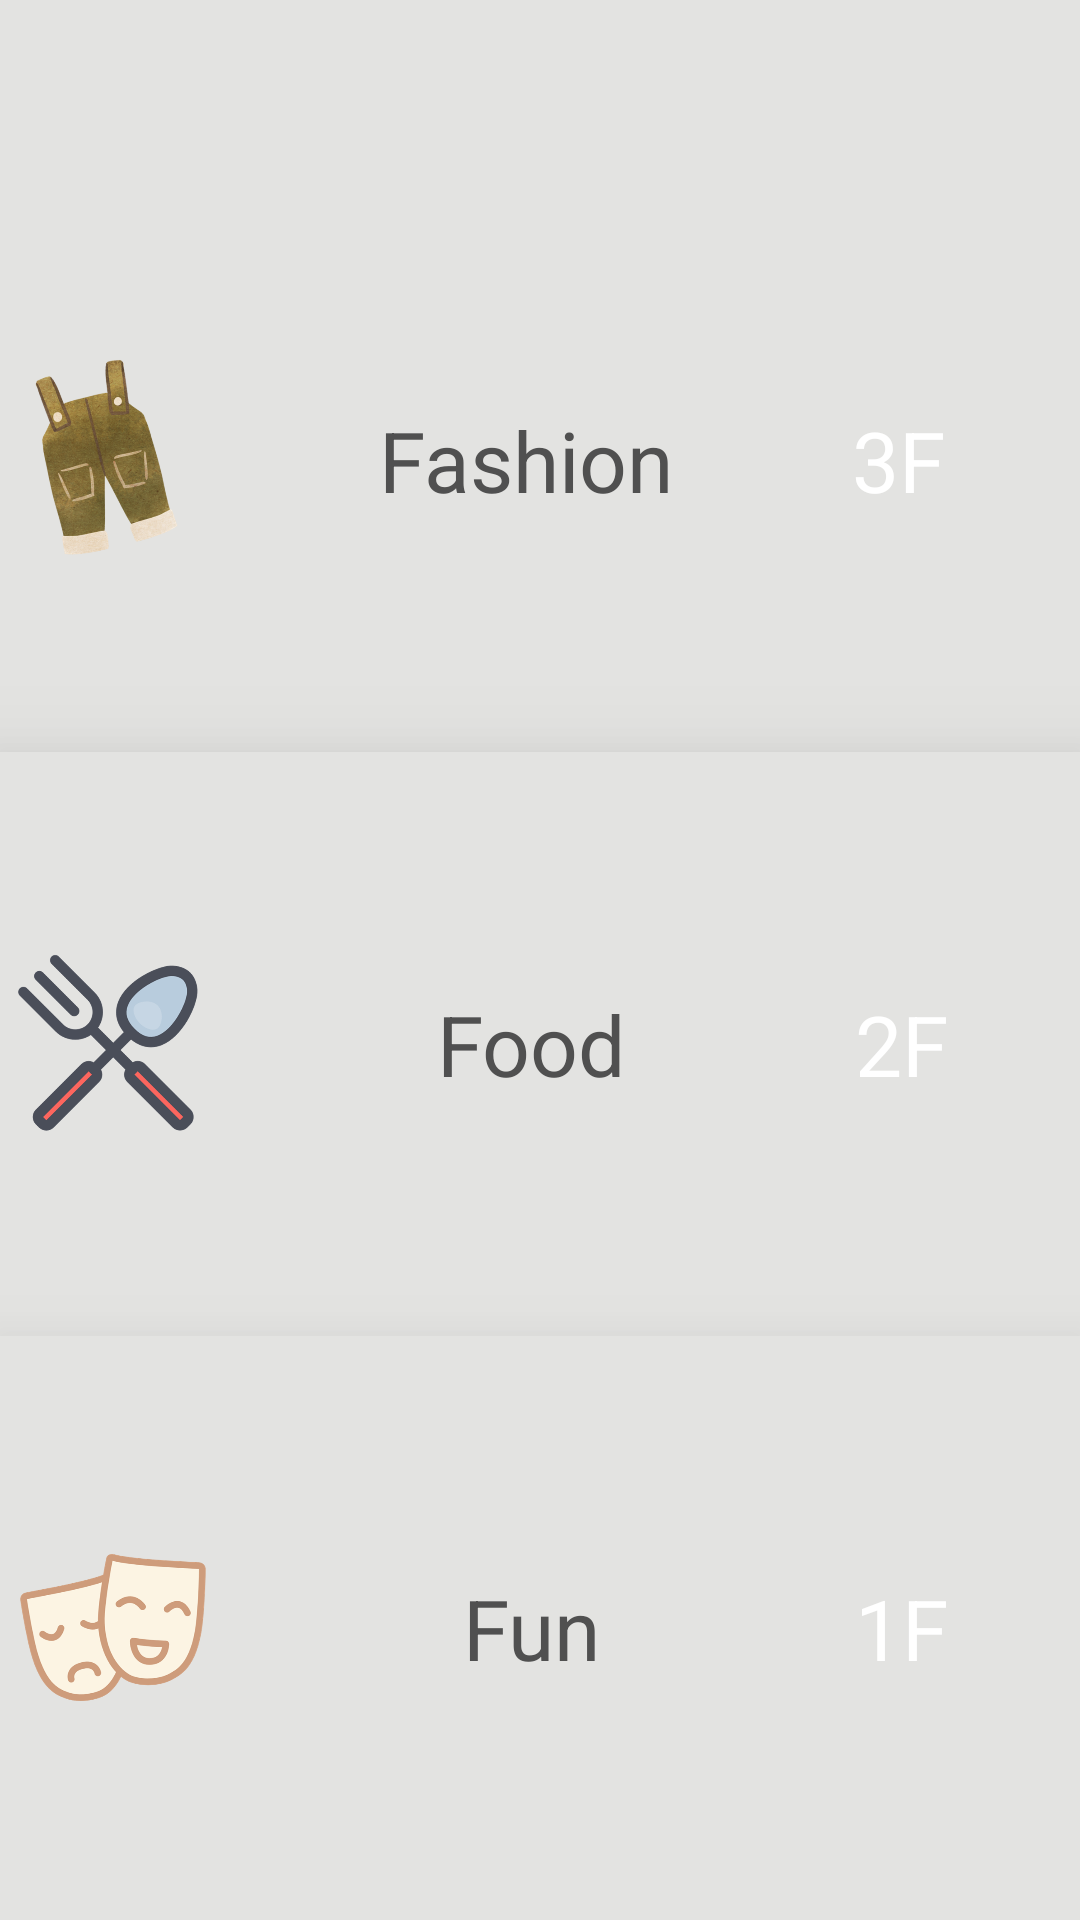

Icon click points for this 1080x1920 phone screenshot, format point (x, y):
funicon: point (113, 1627)
